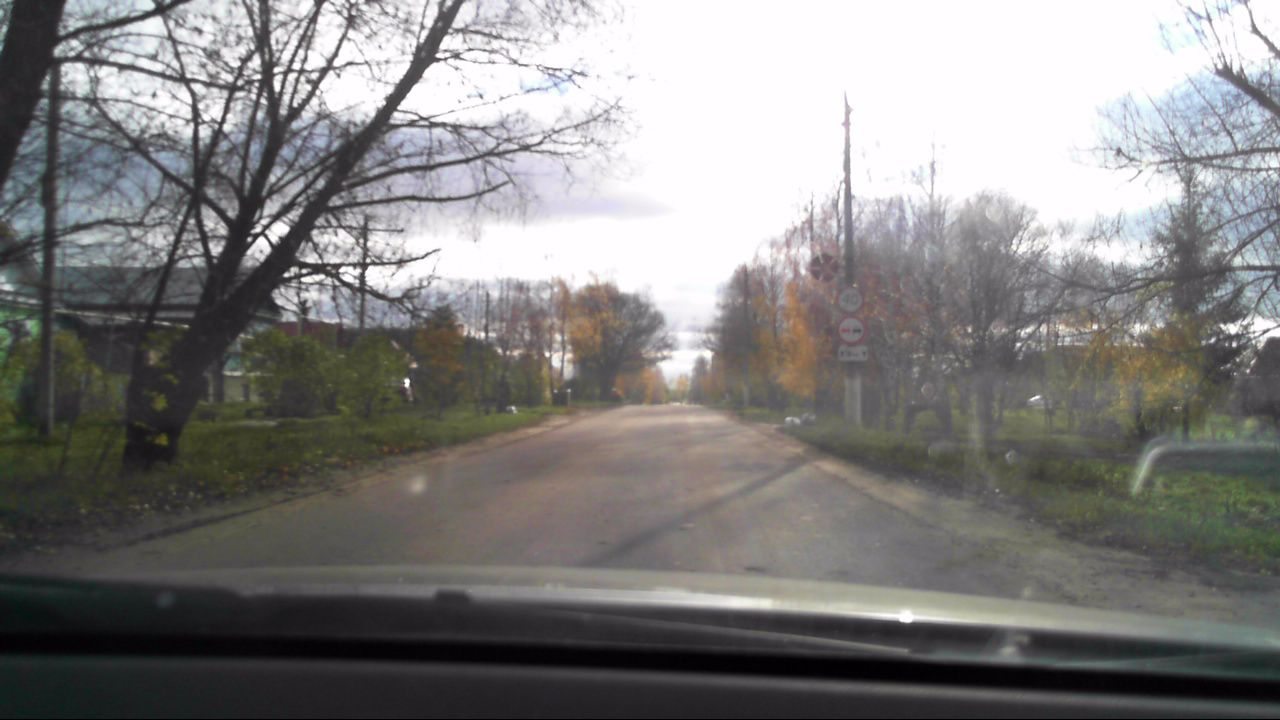speed_warning_40: (837, 284, 864, 315)
